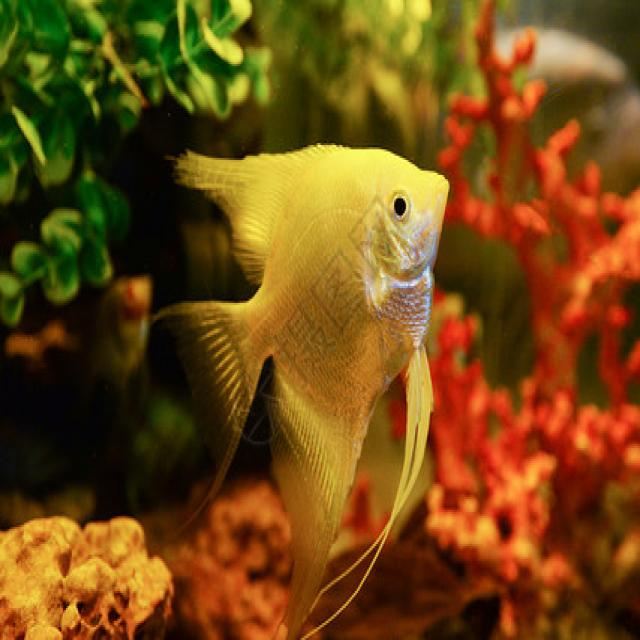AngelFish: (160, 150, 450, 628)
